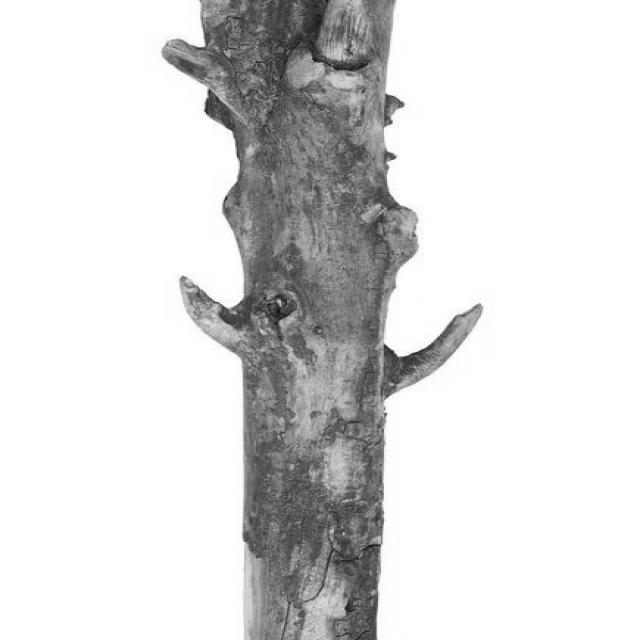Tree: (161, 0, 482, 639)
